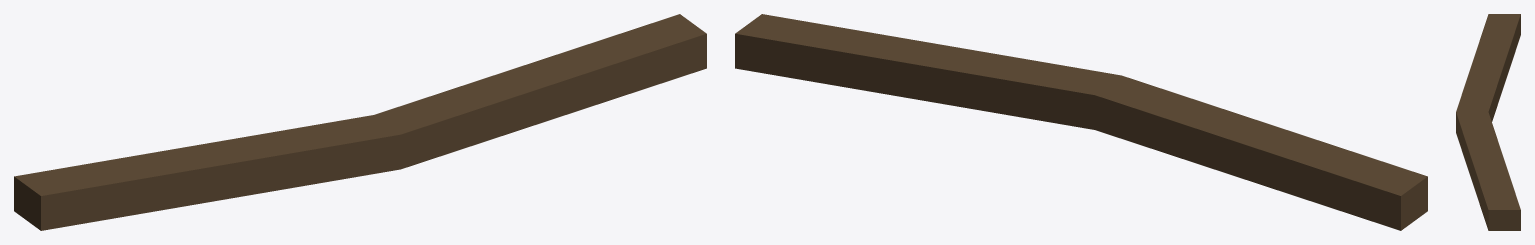
File: Debris_Stick.obj
3 views of the same model, side by side, from view 1: azimuth 30°, elevation 25°; view 2: azimuth 150°, elevation 25°; view 3: azimuth 270°, elevation 25° (orthographic). The views are drawn at different scales.
Size of the model in its own units: 1 by 0.05 by 0.14.
